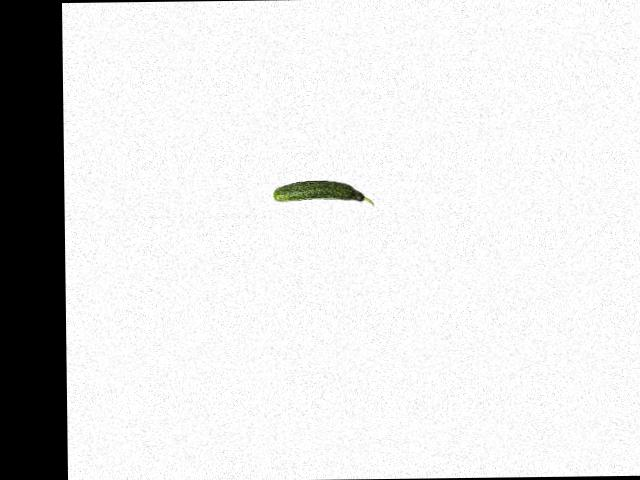cucumber: (274, 180, 375, 206)
